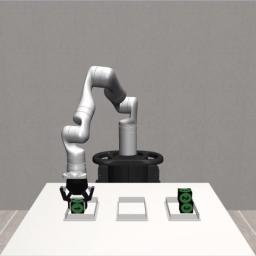cube1: (70, 198, 85, 214)
cube2: (177, 188, 193, 203)
cube3: (180, 200, 194, 214)
